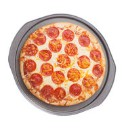pepperonipizza: (20, 22, 106, 104)
